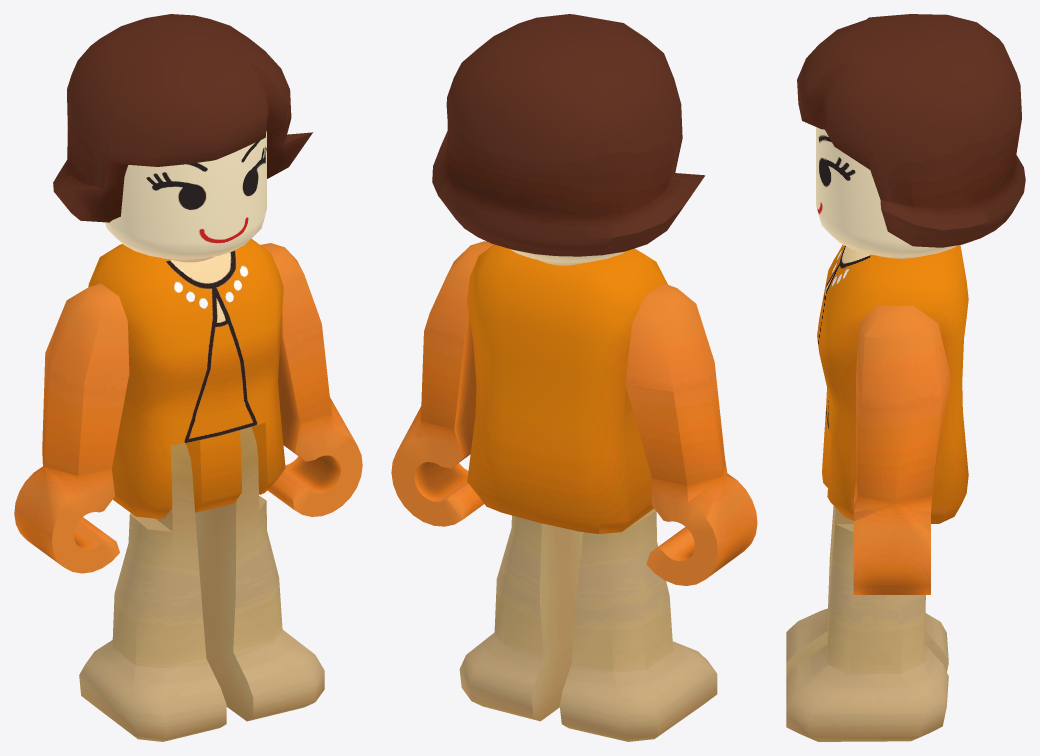
File: plakids_b2.glb
3 views of the same model, side by side, from view 1: azimuth 30°, elevation 25°; view 2: azimuth 150°, elevation 25°; view 3: azimuth 270°, elevation 25° (orthographic). The views are drawn at different scales.
Visible parts, largest first — view 1: plakids_head, plakids_dou, plakids_R_leg, plakids_R_arm, plakids_L_leg, plakids_L_arm; view 2: plakids_head, plakids_dou, plakids_R_arm, plakids_R_leg, plakids_L_leg, plakids_L_arm; view 3: plakids_head, plakids_L_arm, plakids_L_leg, plakids_dou, plakids_R_leg.
Part boxes in pixels (bbox=[...]): plakids_head: bbox=[53, 14, 312, 262]; plakids_dou: bbox=[88, 239, 285, 518]; plakids_R_leg: bbox=[79, 443, 226, 741]; plakids_R_arm: bbox=[14, 283, 129, 573]; plakids_L_leg: bbox=[195, 427, 324, 721]; plakids_L_arm: bbox=[260, 243, 362, 516]; plakids_head: bbox=[432, 14, 705, 265]; plakids_dou: bbox=[467, 244, 667, 533]; plakids_R_arm: bbox=[625, 283, 757, 585]; plakids_R_leg: bbox=[559, 508, 717, 741]; plakids_L_leg: bbox=[459, 515, 583, 721]; plakids_L_arm: bbox=[391, 241, 493, 526]; plakids_head: bbox=[797, 14, 1025, 258]; plakids_L_arm: bbox=[853, 305, 950, 594]; plakids_L_leg: bbox=[786, 508, 948, 741]; plakids_dou: bbox=[817, 244, 968, 523]; plakids_R_leg: bbox=[786, 506, 948, 675].
Size of the model in its own units: 1.86 by 3.72 by 1.21.
2 materials, 2 textured.
